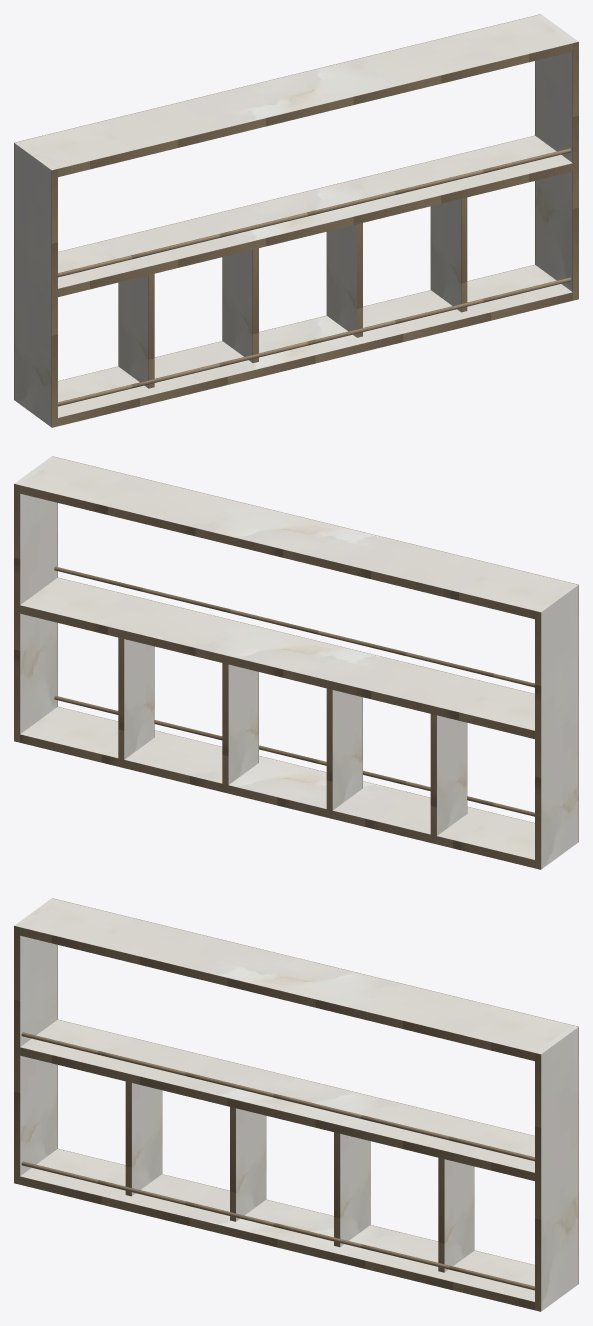
Rendered from Tark 1200mm A.glb.
The picture shows the model from 3 angles, top to bottom: view 1: azimuth 30°, elevation 25°; view 2: azimuth 150°, elevation 25°; view 3: azimuth 330°, elevation 25°; orthographic projection.
Size of the model in its own units: 1.2 by 0.56 by 0.15.
2 materials, 2 textured.
